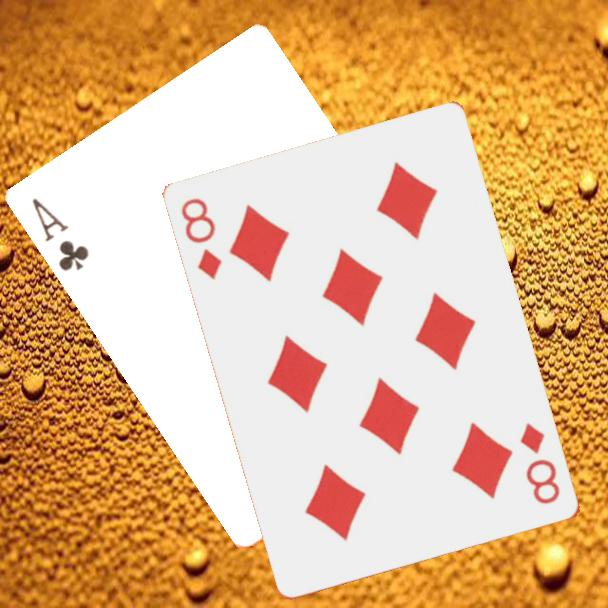c01: (28, 194, 92, 275)
d08: (178, 194, 226, 283), (517, 419, 564, 508)
